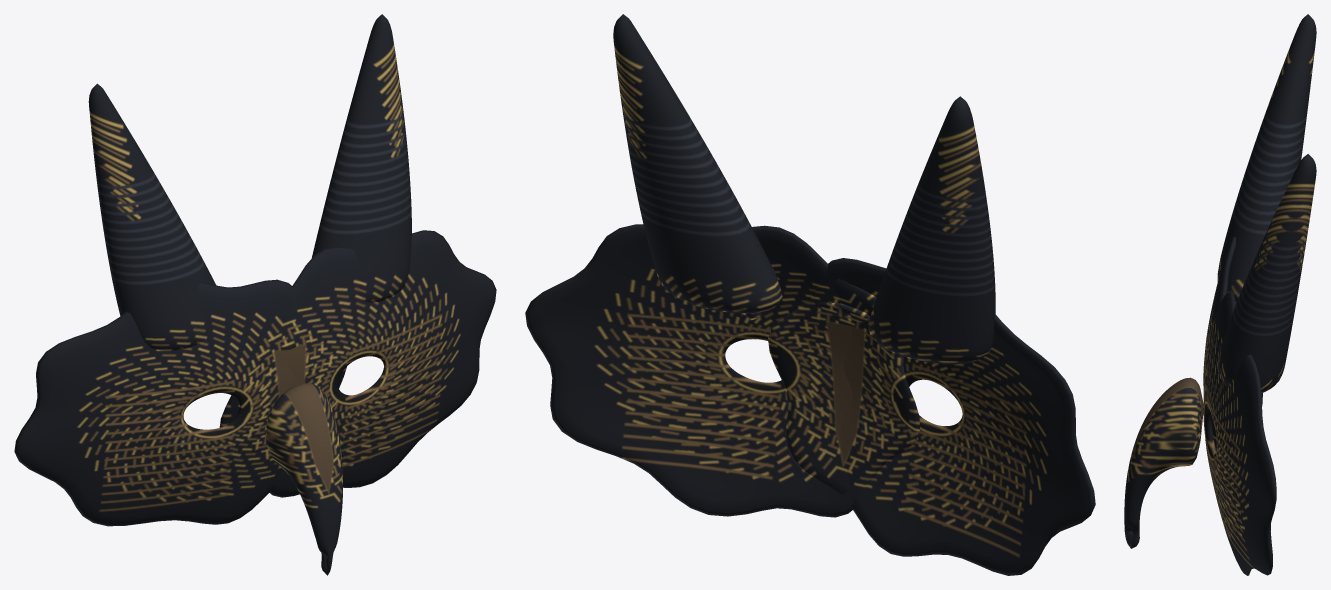
The model's file is nocturne-owl-mask.glb.
The picture shows the model from 3 angles, left to right: view 1: azimuth 30°, elevation 25°; view 2: azimuth 150°, elevation 25°; view 3: azimuth 270°, elevation 25°; orthographic projection. The views are drawn at different scales.
Parts seen in each view (by area): view 1: NocturneOwlMask; view 2: NocturneOwlMask; view 3: NocturneOwlMask.
Boxes of the visible parts, left/top/right/bottom form: NocturneOwlMask: left=14, top=14, right=496, bottom=575; NocturneOwlMask: left=525, top=14, right=1095, bottom=575; NocturneOwlMask: left=1124, top=14, right=1316, bottom=575.
Bounding box in the file's own units: 0.2573 × 0.236 × 0.0884.
Materials: 1 (1 with a texture image).
